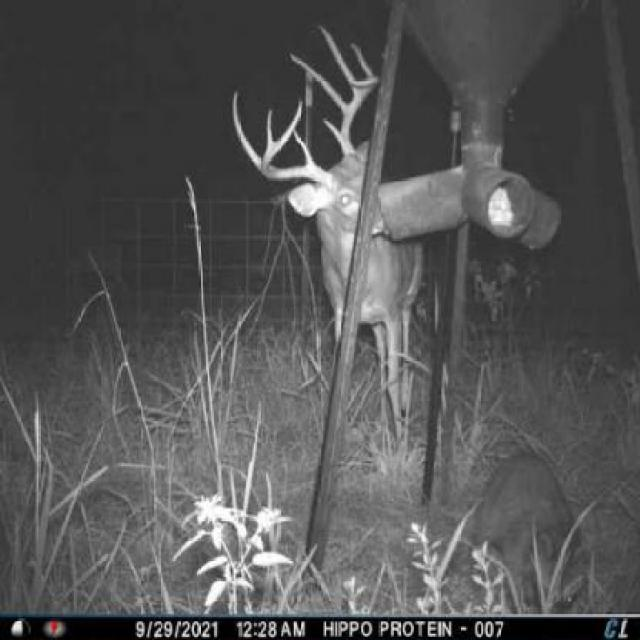Deer: (222, 13, 428, 464)
